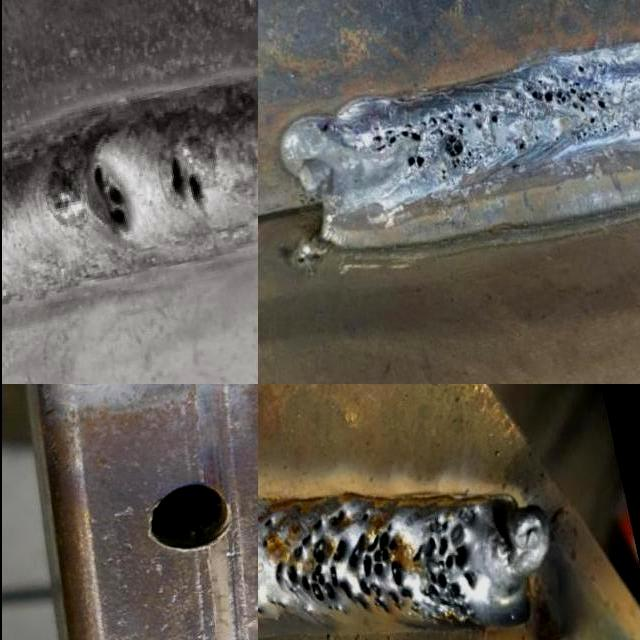defect: (275, 507, 416, 616), (362, 98, 502, 180), (409, 516, 479, 621), (518, 62, 612, 131), (76, 143, 134, 246), (158, 140, 211, 227), (510, 134, 533, 155), (270, 594, 290, 615), (258, 515, 273, 531), (260, 539, 270, 552)
